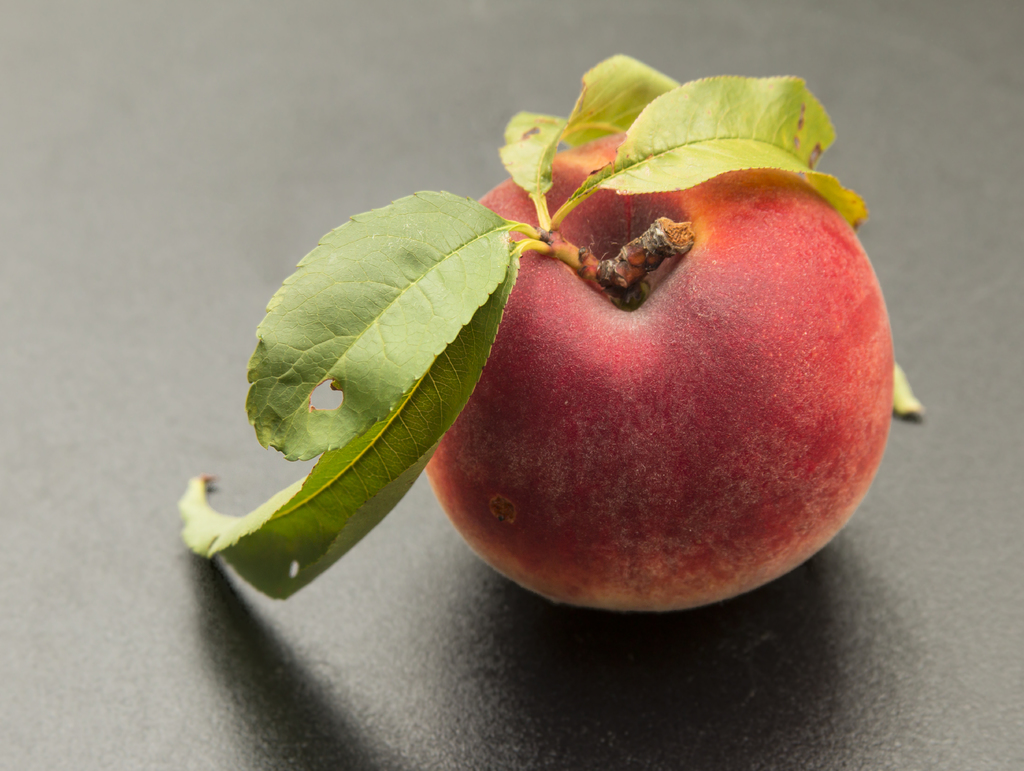Apple: (435, 164, 884, 633)
